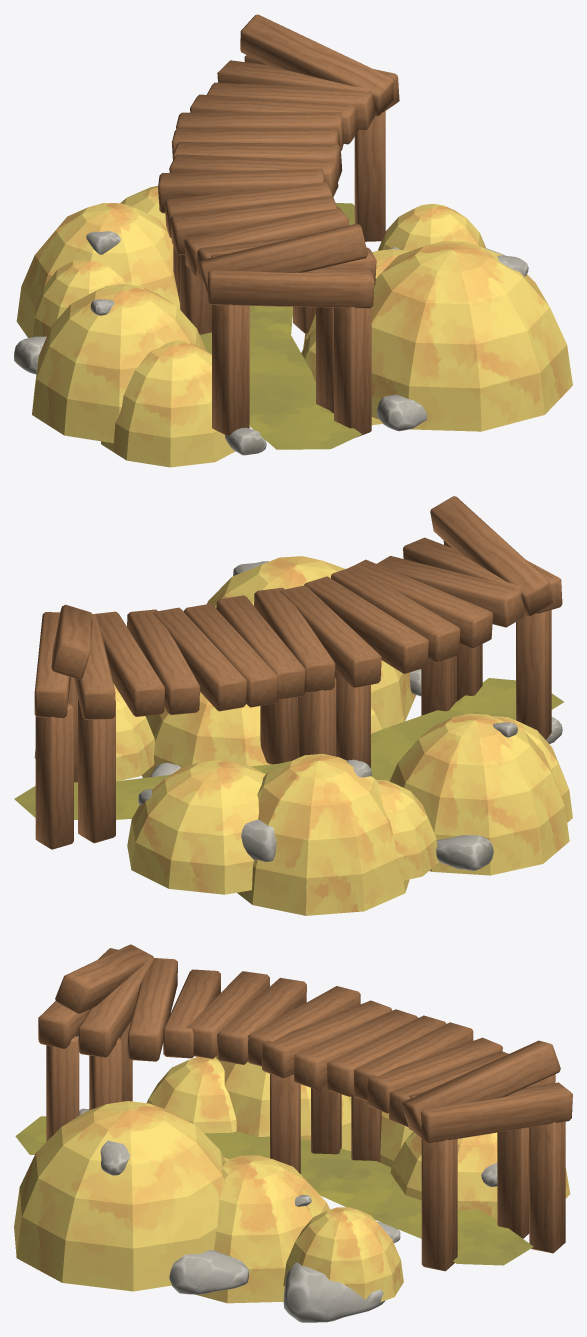
File: Sand_Factory.fbx
The picture shows the model from 3 angles, top to bottom: view 1: azimuth 30°, elevation 25°; view 2: azimuth 150°, elevation 25°; view 3: azimuth 270°, elevation 25°; orthographic projection. The views are drawn at different scales.
Visible parts, largest first — view 1: Sand_Factory; view 2: Sand_Factory; view 3: Sand_Factory.
Part boxes in pixels (x1,y1,x2,y2): Sand_Factory: (14, 14, 572, 467); Sand_Factory: (14, 496, 572, 915); Sand_Factory: (14, 944, 572, 1322).
Bounding box in the file's own units: 193 × 88.38 × 194.
